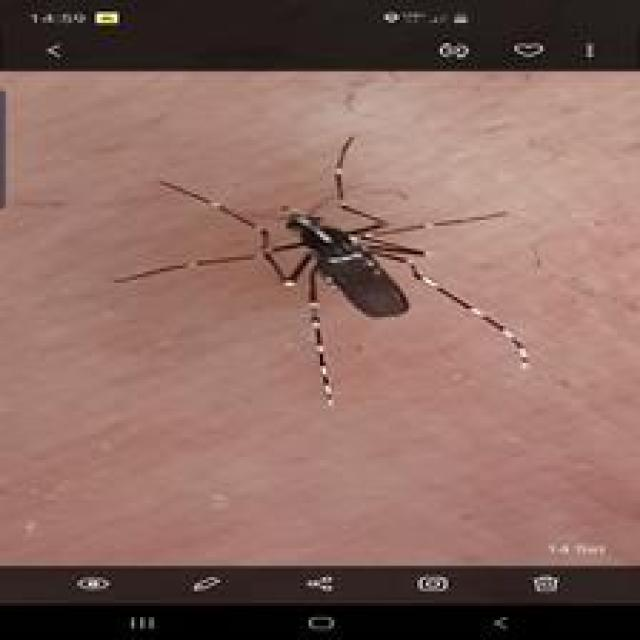Aedes albopictus: (113, 134, 533, 409)
